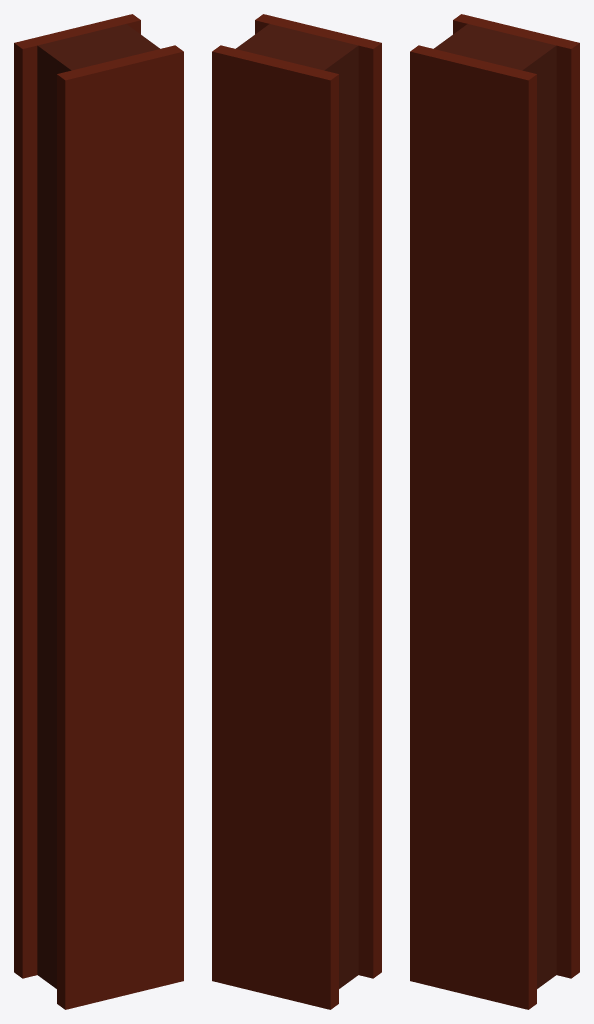
Rendered from VigaAco.fbx.
The picture shows the model from 3 angles, left to right: view 1: azimuth 30°, elevation 25°; view 2: azimuth 150°, elevation 25°; view 3: azimuth 330°, elevation 25°; orthographic projection.
Visible parts, largest first — view 1: VigaAco; view 2: VigaAco; view 3: VigaAco.
Part boxes in pixels (bbox=[...]): VigaAco: bbox=[14, 14, 183, 1009]; VigaAco: bbox=[212, 14, 381, 1009]; VigaAco: bbox=[410, 14, 579, 1009].
Size of the model in its own units: 40 by 300 by 30.
